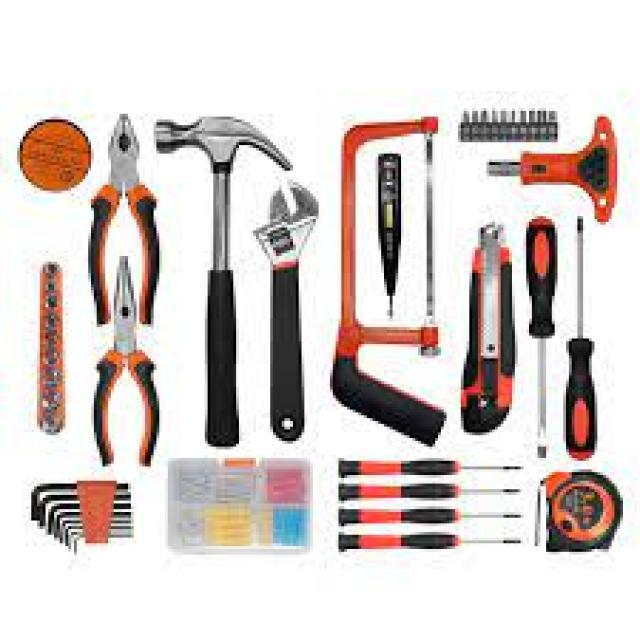hammer: (151, 95, 296, 454)
screwdriver: (518, 212, 560, 468), (562, 214, 602, 466), (334, 454, 531, 482), (332, 529, 520, 555), (337, 480, 522, 504), (334, 505, 522, 528)
